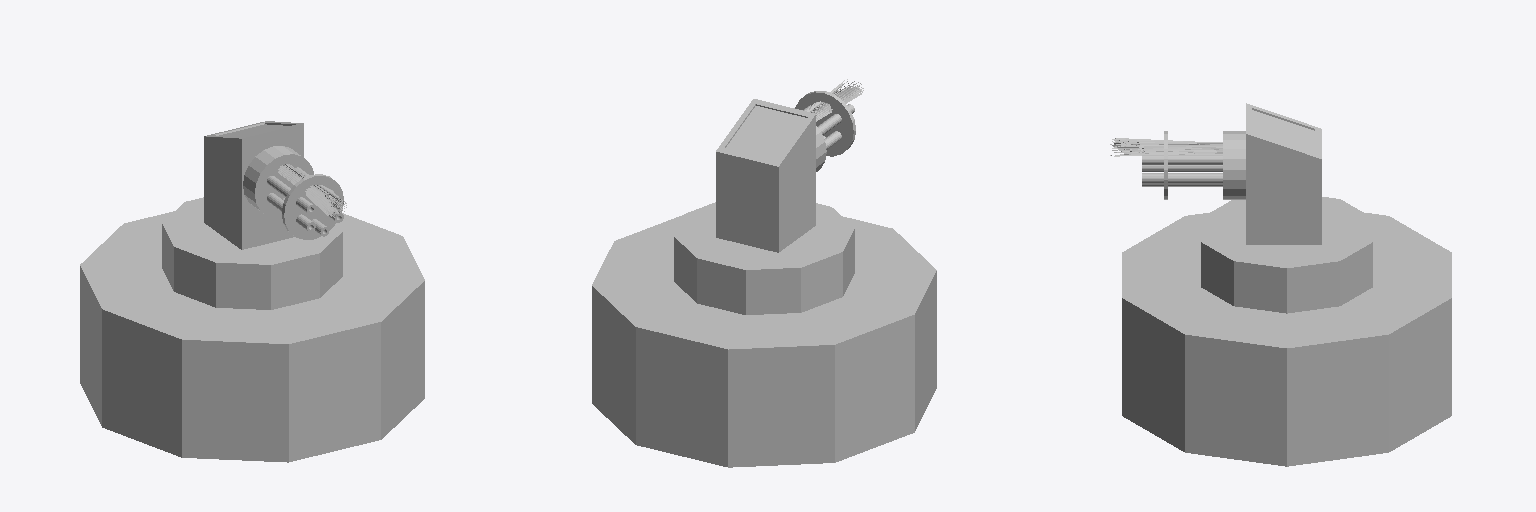
Rendered from bunkerfire.obj.
3 renders of one model, left to right at view 1: azimuth 30°, elevation 25°; view 2: azimuth 150°, elevation 25°; view 3: azimuth 270°, elevation 25°, orthographic.
Visible parts, largest first — view 1: pCylinder4; view 2: pCylinder4; view 3: pCylinder4.
Boxes of the visible parts, x1=… form: pCylinder4: x1=80, y1=121, x2=424, y2=462; pCylinder4: x1=592, y1=79, x2=936, y2=467; pCylinder4: x1=1110, y1=103, x2=1451, y2=466.
Bounding box in the file's own units: 1.75 × 1.52 × 1.73.